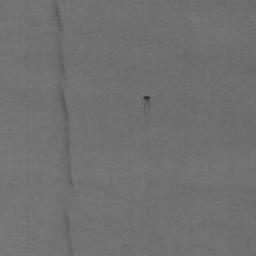Inclusion: (51, 0, 77, 255), (141, 93, 154, 120)
